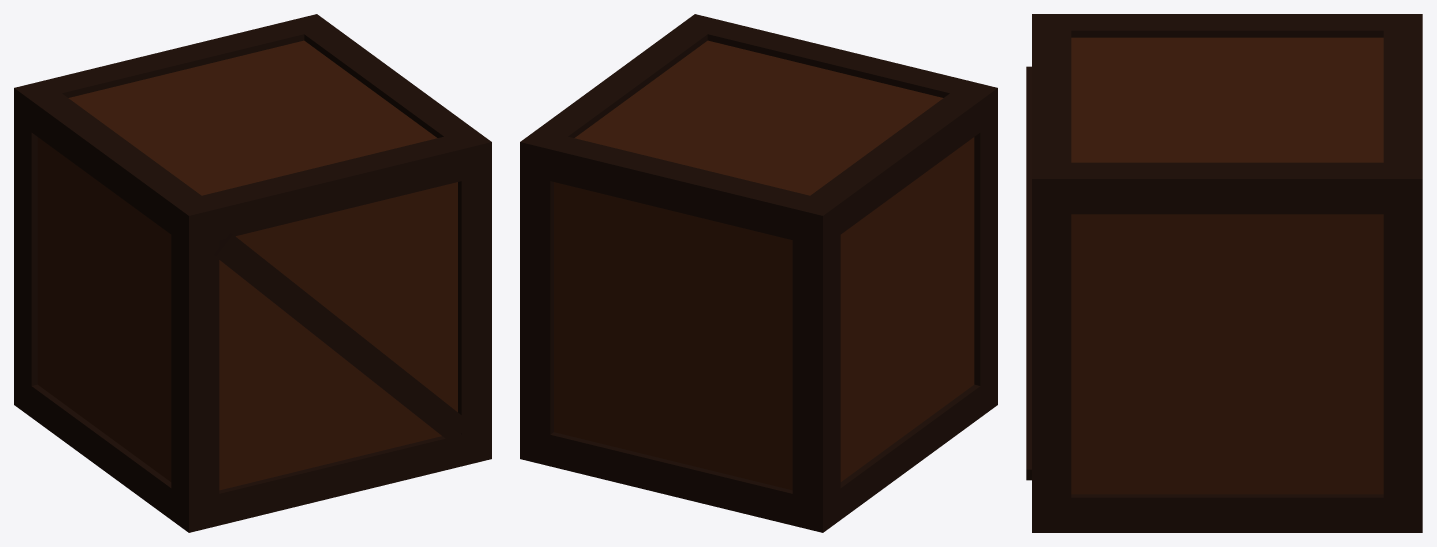
Rendered from SM_Hide_Crate.glb.
3 renders of one model, left to right at view 1: azimuth 30°, elevation 25°; view 2: azimuth 150°, elevation 25°; view 3: azimuth 270°, elevation 25°, orthographic. The views are drawn at different scales.
Visible parts, largest first — view 1: SM_Hide_Crate-col; view 2: SM_Hide_Crate-col; view 3: SM_Hide_Crate-col.
Part boxes in pixels (box(x1,y1,x2,y2)): SM_Hide_Crate-col: box(14, 14, 491, 532); SM_Hide_Crate-col: box(520, 14, 997, 532); SM_Hide_Crate-col: box(1026, 14, 1422, 532).
Bounding box in the file's own units: 1 × 1 × 1.01.
